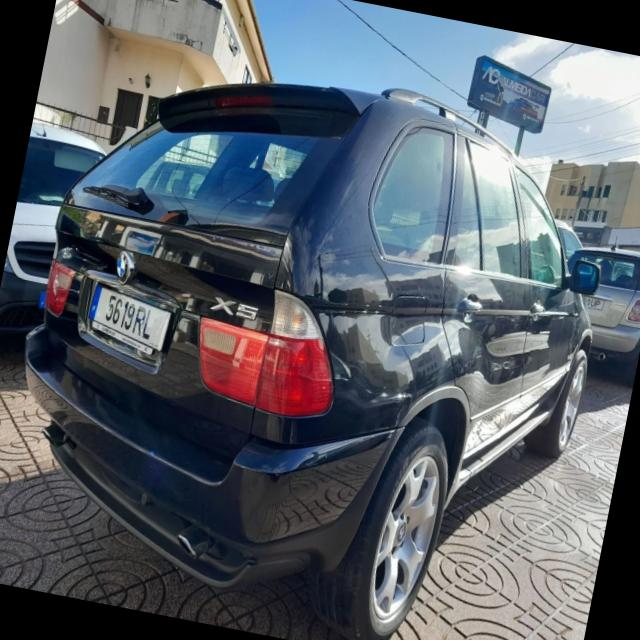portuguese-license-plates: (82, 280, 177, 357)
